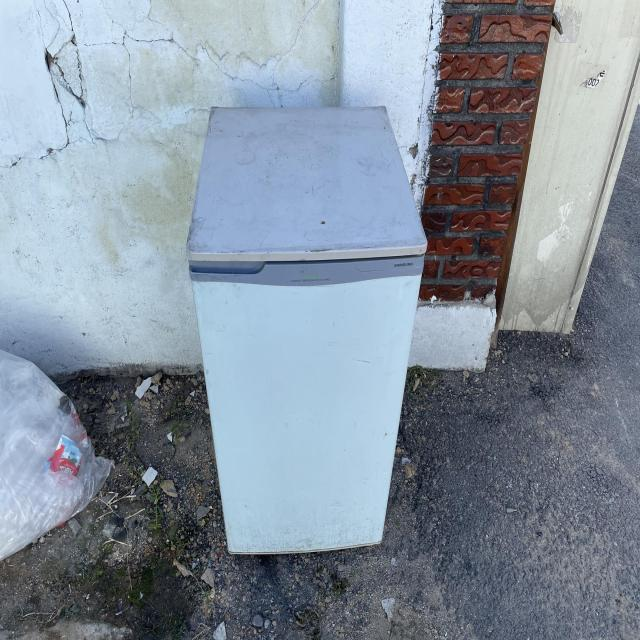refrigerator: (184, 104, 428, 555)
